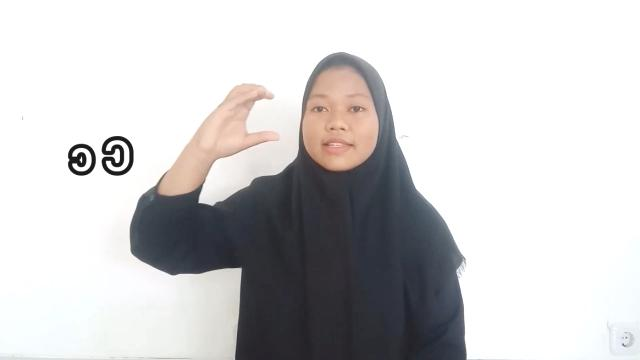C: (198, 83, 284, 159)
